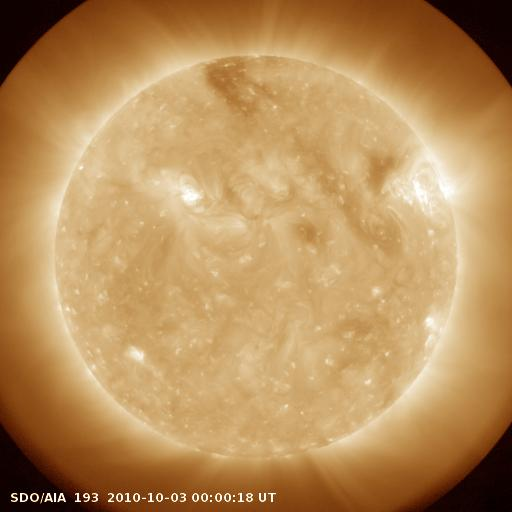coronal_hole: (204, 52, 261, 114), (351, 142, 407, 198)
